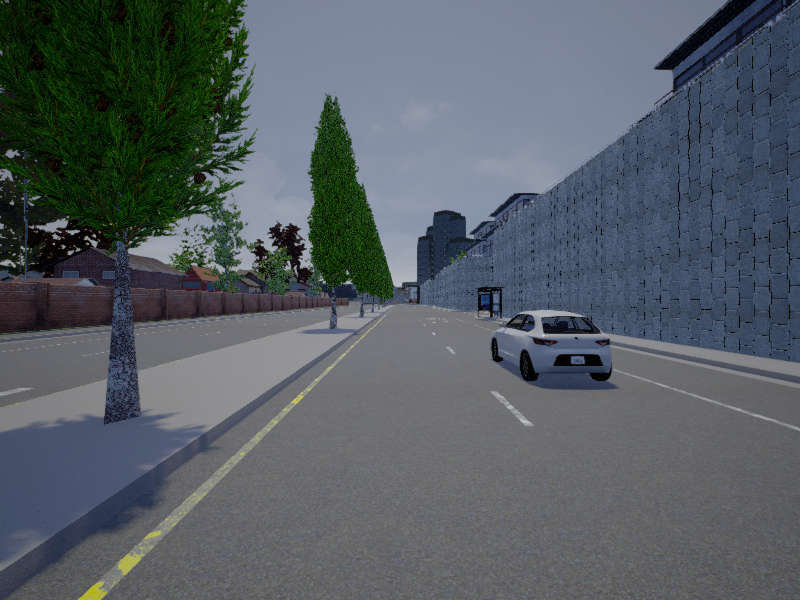Benign: (492, 311, 610, 385)
